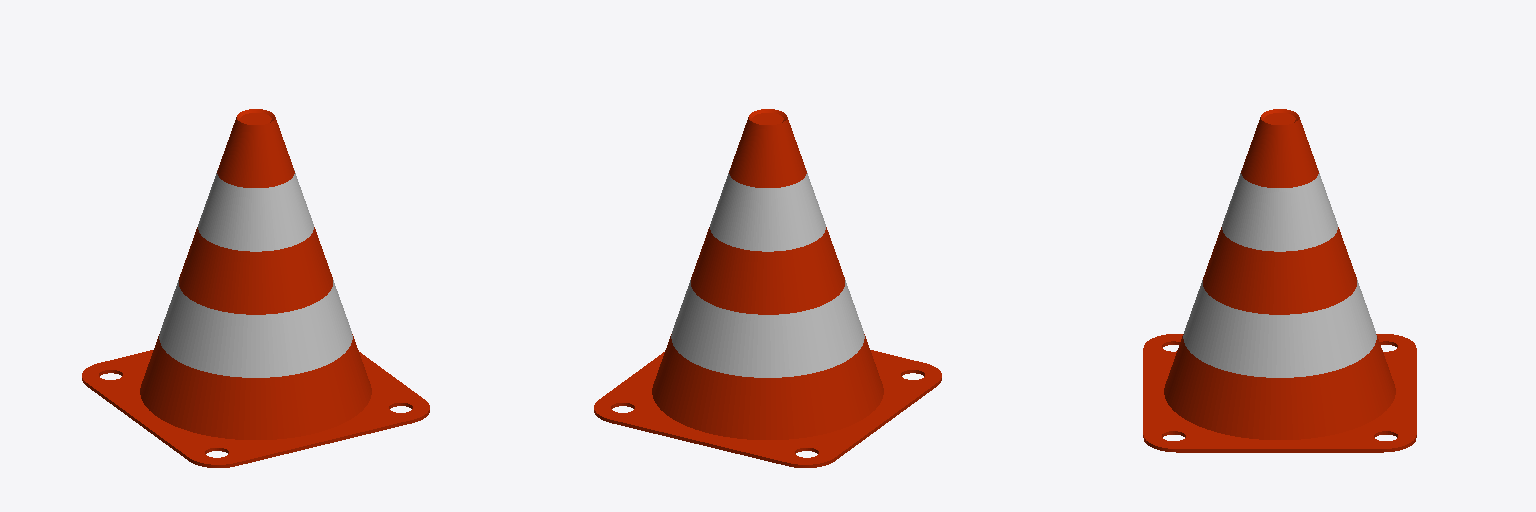
The model's file is StandardCone.obj.
The picture shows the model from 3 angles: view 1: azimuth 30°, elevation 25°; view 2: azimuth 150°, elevation 25°; view 3: azimuth 270°, elevation 25°; orthographic projection.
Bounding box in the file's own units: 1.8 × 2.02 × 1.8.